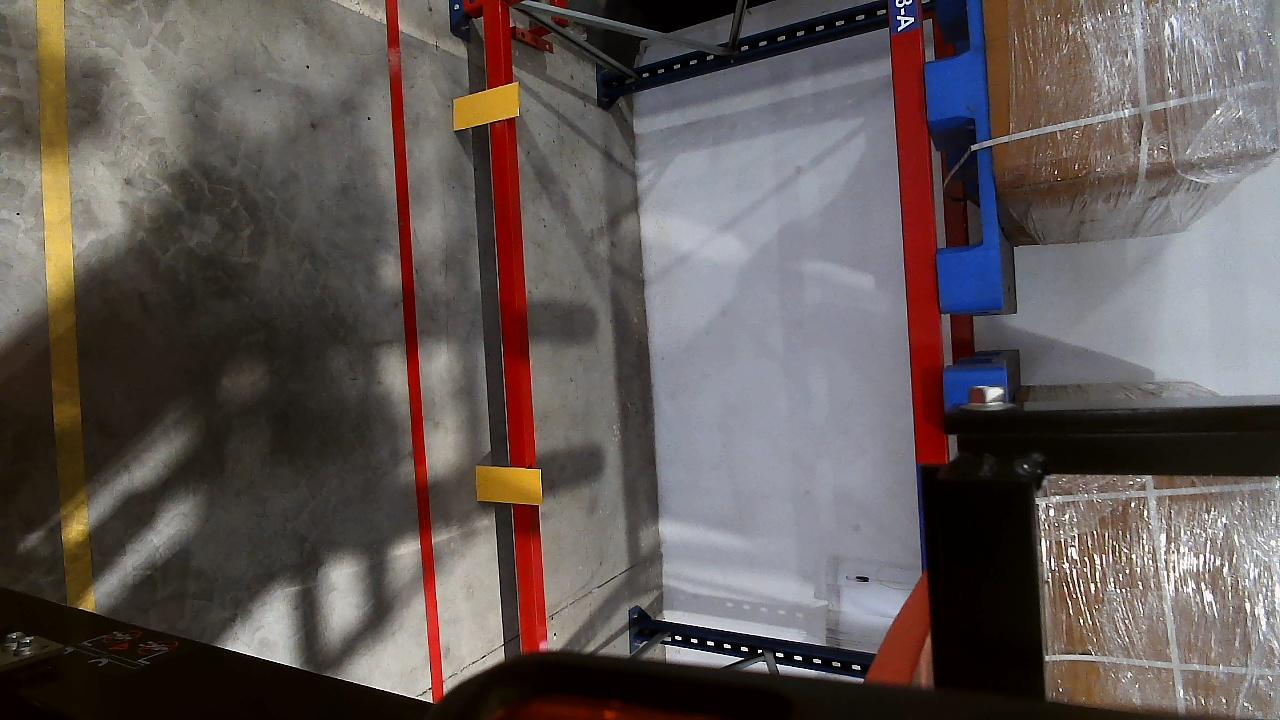h_rack: (483, 1, 552, 643), (884, 1, 950, 455)
orange_strip: (451, 83, 520, 130), (474, 466, 540, 505)
red_line: (377, 0, 450, 692)
small_pallet: (914, 1, 1009, 307)
yellow_line: (33, 0, 115, 608)
